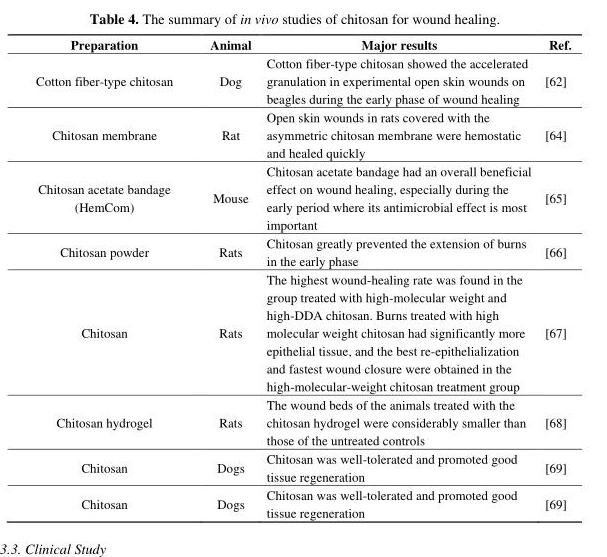table: (35, 35, 570, 520)
table column: (258, 35, 537, 520), (35, 35, 190, 520), (190, 35, 258, 520), (537, 35, 570, 520)
table column header: (35, 35, 570, 53)
table row: (35, 269, 570, 394), (35, 161, 570, 232), (35, 106, 570, 161), (35, 394, 570, 448), (35, 53, 570, 106), (35, 232, 570, 269), (35, 448, 570, 484), (35, 484, 570, 520), (35, 35, 570, 53)
